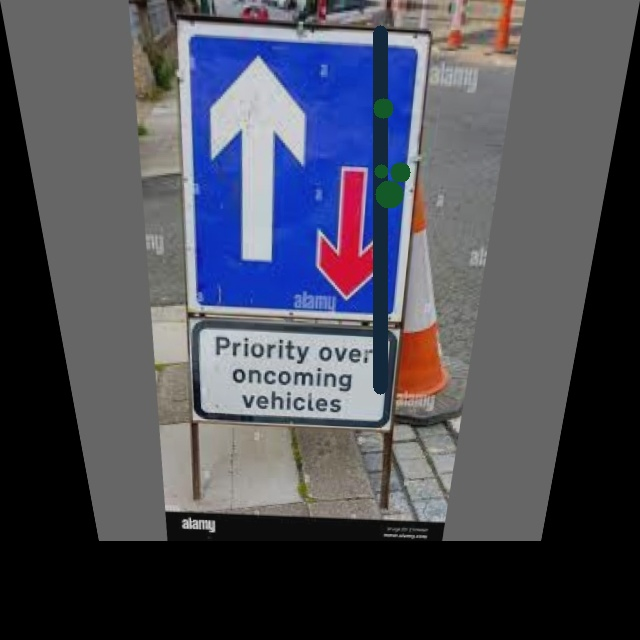Priority_for_Oncoming_Traffic: (175, 32, 422, 316)
